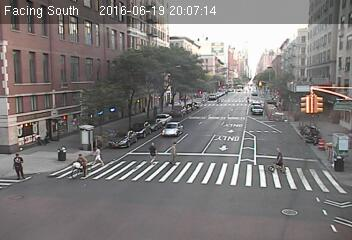neg: (325, 145, 346, 173), (304, 120, 325, 146), (62, 153, 82, 180), (298, 44, 317, 71), (184, 85, 201, 107), (153, 45, 169, 66), (261, 66, 277, 86), (192, 36, 207, 56), (241, 80, 254, 98), (84, 127, 95, 142), (245, 104, 255, 116)
pos: (7, 152, 27, 179), (165, 140, 183, 165), (145, 142, 162, 164), (90, 146, 106, 167)
